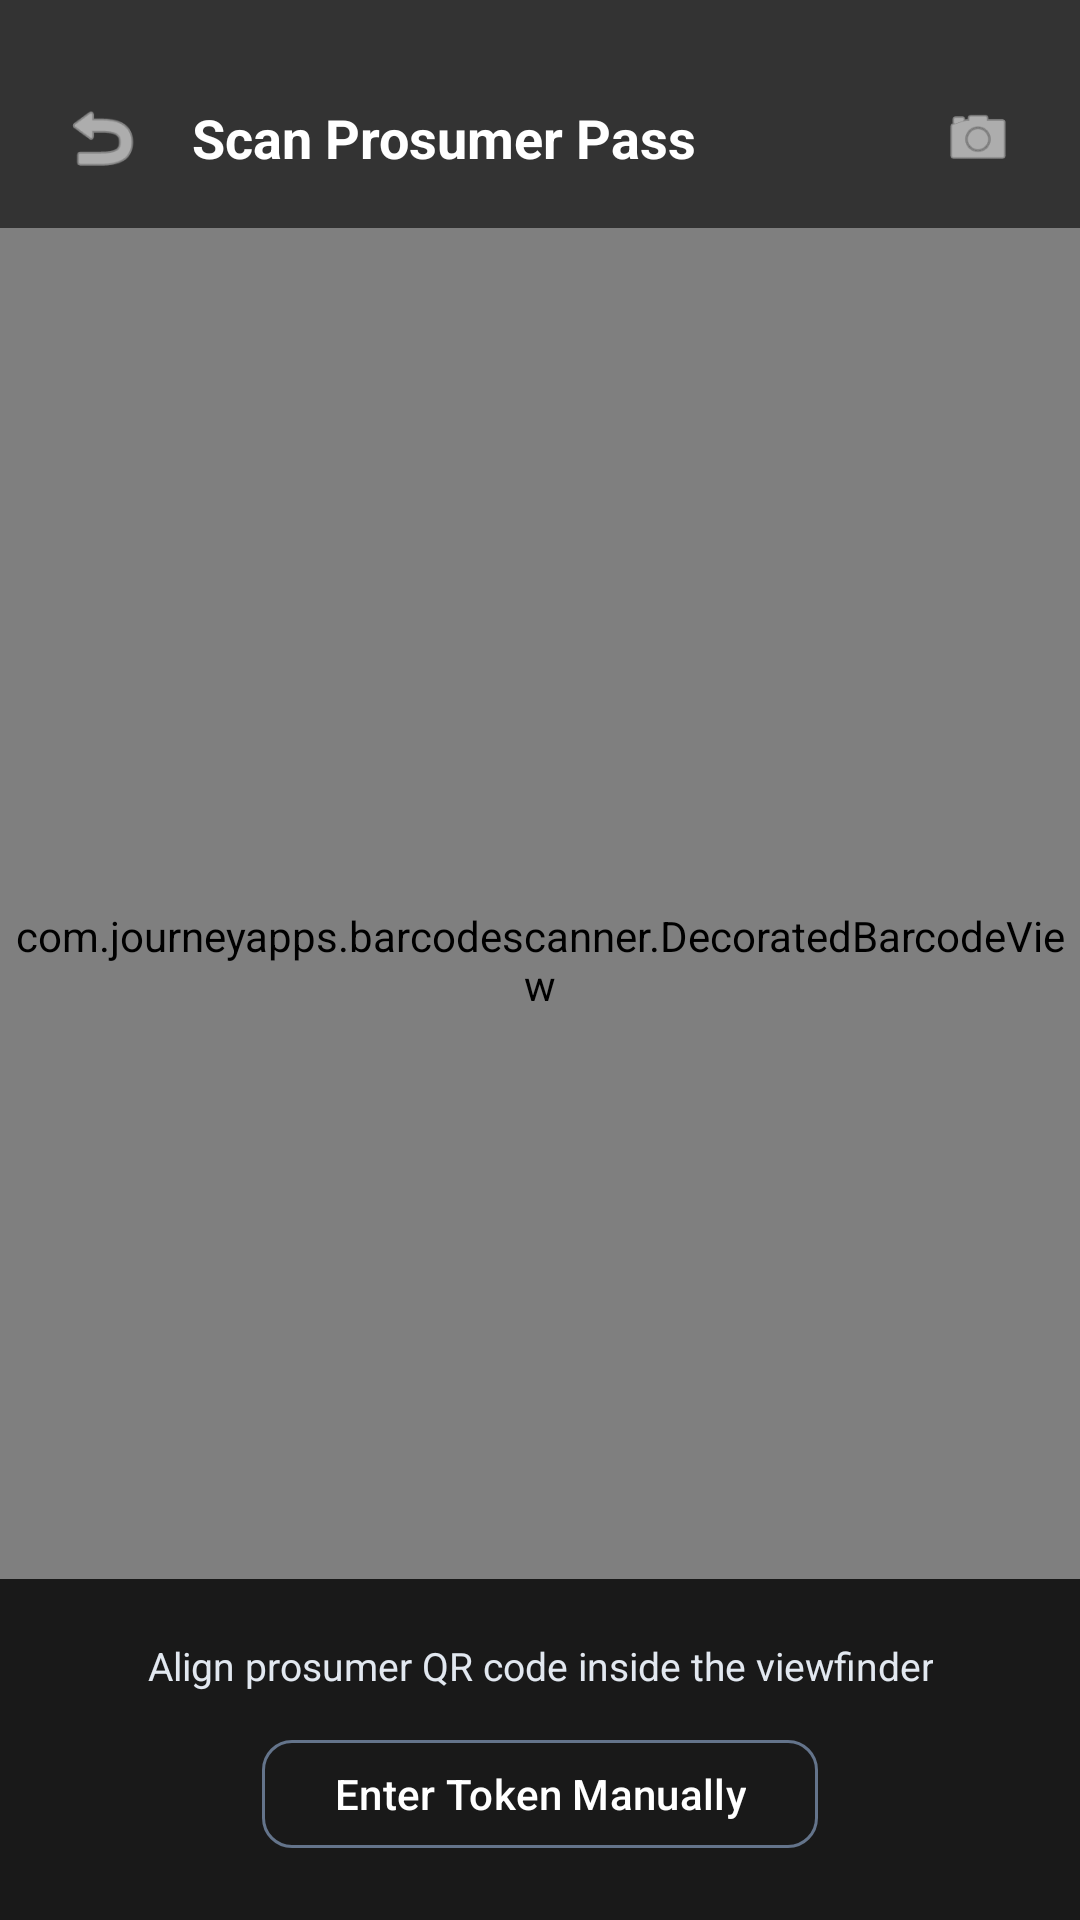

Icon bounding boxes for this 1080px x 1920px phone screenshot, format (x1, y1, x2, y2):
Back: (73, 111, 133, 166)
